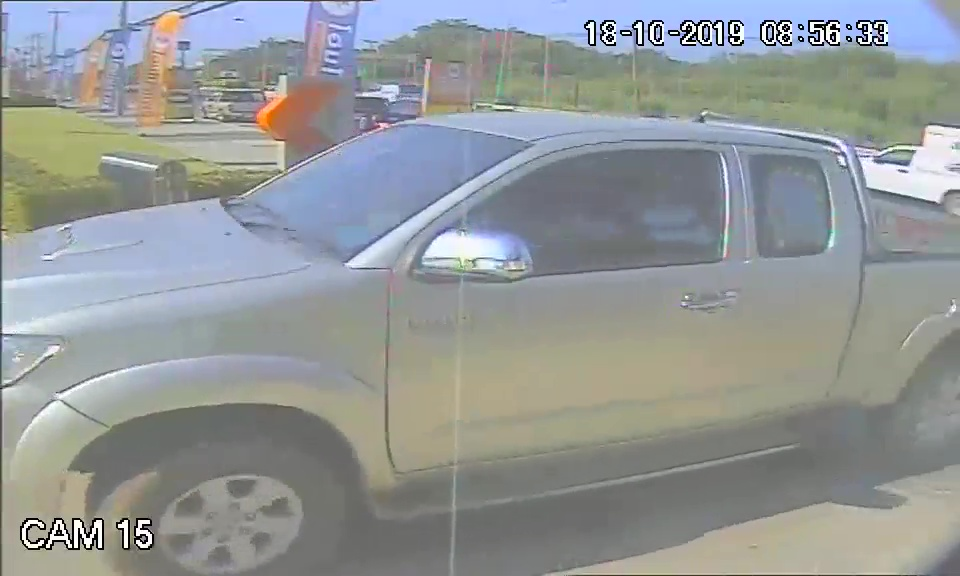pickup: (8, 103, 871, 529)
